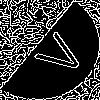V: (25, 25, 90, 80)
